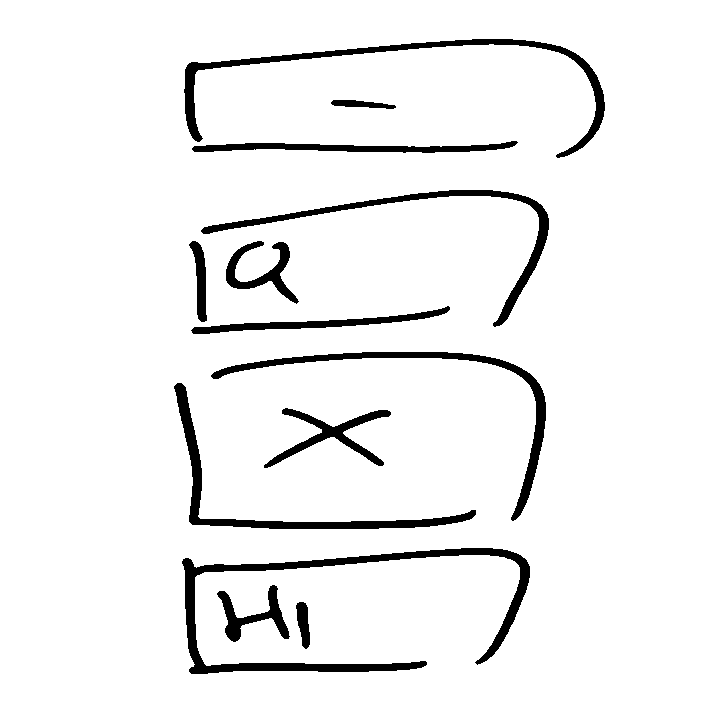button: (181, 35, 608, 160)
heading1: (180, 545, 534, 681)
picture: (172, 350, 548, 531)
search bar: (185, 185, 552, 338)
